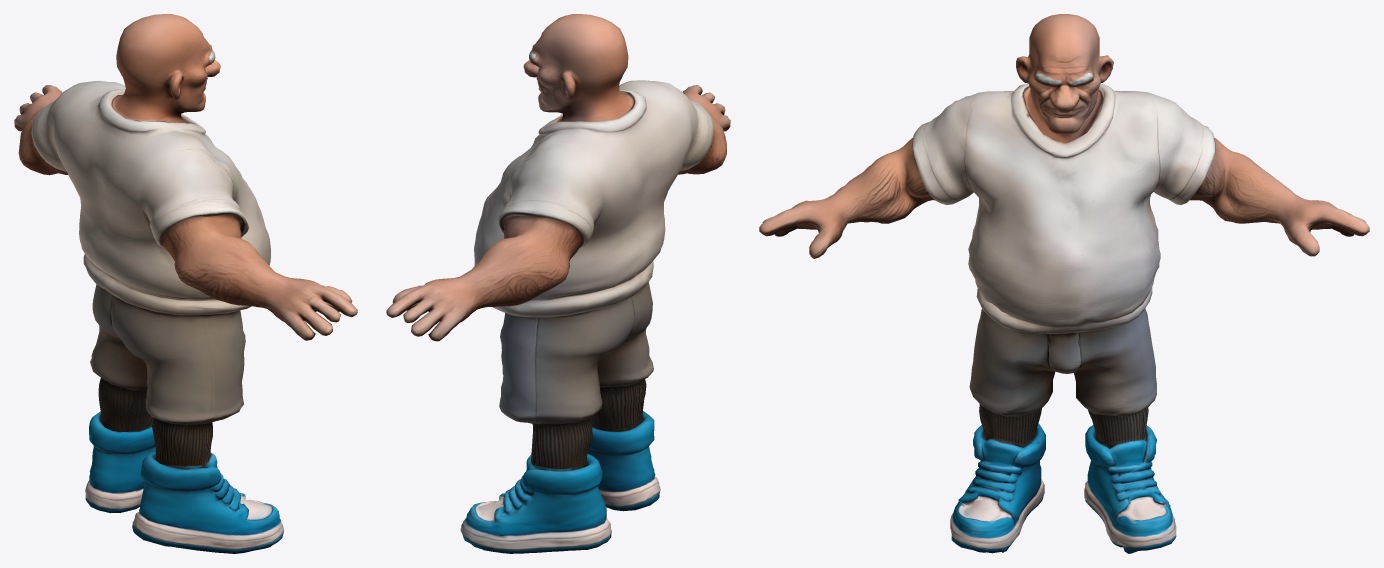
The picture shows the model from 3 angles, left to right: view 1: azimuth 30°, elevation 25°; view 2: azimuth 150°, elevation 25°; view 3: azimuth 270°, elevation 25°; orthographic projection.
Visible parts, largest first — view 1: tripo_node_802ff00a; view 2: tripo_node_802ff00a; view 3: tripo_node_802ff00a.
Boxes of the visible parts, left/top/right/bottom form: tripo_node_802ff00a: left=14, top=14, right=357, bottom=553; tripo_node_802ff00a: left=386, top=14, right=730, bottom=553; tripo_node_802ff00a: left=759, top=14, right=1369, bottom=553.
Bounding box in the file's own units: 31.7 × 91 × 100.
Materials: 1 (1 with a texture image).
